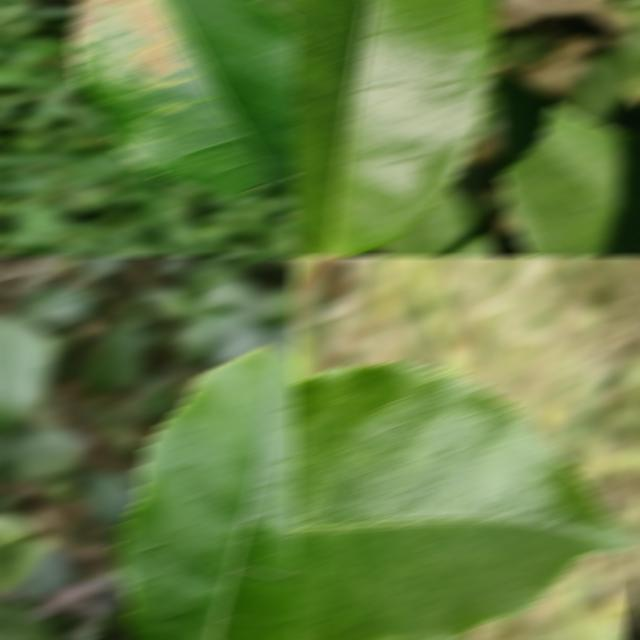Leaf: (290, 363, 632, 639), (112, 346, 298, 639), (290, 1, 500, 255), (68, 1, 298, 197), (492, 71, 640, 255), (379, 188, 498, 255), (560, 48, 640, 131), (0, 316, 56, 431), (0, 428, 90, 480), (82, 324, 146, 390), (19, 285, 93, 329), (81, 471, 140, 523), (0, 603, 56, 639), (0, 515, 36, 546), (78, 257, 133, 277)
